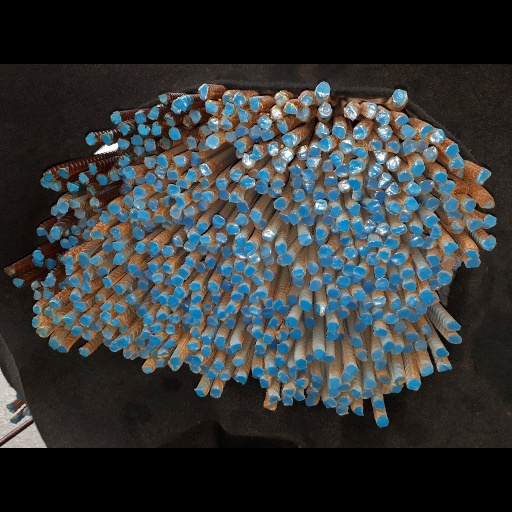dipstick: (349, 160, 364, 174), (189, 304, 202, 320), (411, 161, 424, 177), (316, 83, 330, 97), (403, 140, 417, 154), (423, 146, 437, 160), (446, 143, 459, 158), (281, 134, 297, 146), (257, 116, 271, 129), (319, 102, 332, 116), (314, 199, 327, 213), (353, 125, 366, 139), (378, 127, 391, 141), (386, 156, 400, 169), (402, 125, 416, 138), (432, 129, 445, 143), (421, 179, 434, 193), (444, 198, 458, 211), (468, 218, 482, 231), (483, 214, 496, 228), (482, 236, 495, 250), (437, 271, 451, 284), (343, 246, 357, 259), (273, 159, 285, 174), (239, 176, 254, 188), (318, 244, 333, 256), (345, 105, 357, 120), (276, 118, 287, 134), (424, 215, 440, 226), (199, 163, 212, 176), (147, 337, 160, 350), (221, 103, 234, 116), (255, 181, 268, 194), (386, 141, 399, 154), (478, 171, 491, 184), (406, 197, 419, 210), (424, 236, 437, 249), (407, 377, 420, 390), (205, 100, 217, 114), (205, 136, 219, 148), (168, 357, 180, 371), (300, 92, 312, 106), (317, 137, 329, 151), (317, 123, 329, 137), (301, 169, 315, 181), (283, 316, 297, 328), (407, 182, 421, 194), (373, 266, 387, 278), (267, 142, 278, 157), (443, 243, 458, 254), (174, 98, 186, 111), (144, 138, 156, 151), (184, 136, 196, 149), (213, 215, 225, 228), (233, 246, 245, 259), (251, 145, 263, 158), (297, 108, 309, 121), (332, 125, 344, 138), (250, 209, 262, 222), (377, 112, 389, 125), (393, 91, 406, 103), (421, 126, 433, 139), (434, 172, 447, 184), (426, 198, 439, 210), (368, 199, 380, 212), (441, 257, 454, 269), (419, 266, 431, 279), (110, 111, 121, 125), (145, 172, 156, 186), (233, 92, 244, 106), (242, 154, 253, 168), (249, 125, 260, 139), (248, 97, 259, 111), (298, 234, 312, 245), (369, 163, 380, 177), (444, 181, 455, 195), (464, 199, 475, 213), (337, 276, 351, 287), (277, 255, 292, 265), (394, 115, 409, 125), (379, 173, 389, 188), (199, 84, 208, 100), (299, 299, 311, 311), (321, 160, 333, 172), (339, 140, 351, 152), (367, 104, 376, 120), (448, 159, 464, 168), (399, 210, 411, 222), (376, 278, 388, 290), (376, 415, 388, 427), (117, 138, 130, 149), (208, 118, 219, 131), (159, 137, 170, 150), (157, 155, 168, 168), (155, 167, 166, 180), (167, 184, 180, 195), (133, 226, 144, 239), (43, 274, 54, 287), (69, 276, 80, 289), (245, 241, 256, 254), (235, 214, 248, 225), (216, 189, 229, 200), (219, 118, 232, 129), (235, 126, 248, 137), (276, 93, 287, 106), (282, 148, 293, 161), (353, 147, 366, 158), (335, 165, 348, 176), (451, 220, 464, 231), (389, 273, 402, 284), (372, 296, 385, 307), (390, 298, 401, 311), (226, 224, 240, 234), (237, 108, 247, 122), (261, 308, 275, 318), (368, 140, 382, 150), (466, 258, 480, 268), (371, 213, 385, 223), (364, 220, 374, 234), (390, 226, 407, 234), (191, 151, 200, 166), (480, 199, 495, 208), (159, 92, 170, 104), (148, 108, 159, 120), (189, 110, 200, 122), (169, 127, 180, 139), (124, 167, 136, 178), (174, 156, 186, 167), (57, 201, 68, 213), (134, 187, 145, 199), (185, 169, 196, 181), (122, 195, 133, 207), (110, 227, 121, 239), (162, 245, 174, 256), (189, 233, 200, 245), (221, 266, 233, 277), (224, 131, 236, 142), (221, 91, 233, 102), (270, 108, 282, 119), (274, 198, 286, 209), (288, 213, 299, 225), (293, 190, 305, 201), (304, 181, 315, 193), (307, 262, 318, 274), (309, 280, 321, 291), (240, 304, 252, 315), (330, 153, 341, 165), (349, 179, 361, 190), (338, 180, 349, 192), (349, 204, 360, 216), (385, 238, 397, 249), (378, 250, 389, 262), (392, 253, 404, 264), (394, 322, 406, 333), (407, 295, 419, 306), (354, 266, 366, 277), (342, 264, 354, 275), (372, 349, 383, 361), (356, 350, 368, 361), (86, 132, 96, 145), (151, 122, 161, 135), (153, 180, 163, 193), (170, 206, 180, 219), (108, 203, 121, 213), (51, 227, 61, 240), (233, 141, 246, 151), (284, 103, 297, 113), (272, 179, 285, 189), (315, 304, 328, 314), (376, 150, 386, 163), (426, 255, 439, 265), (376, 225, 389, 235), (436, 347, 449, 357), (407, 312, 420, 322), (384, 313, 397, 323), (338, 396, 351, 406), (324, 398, 337, 408), (346, 365, 359, 375), (318, 257, 332, 266), (309, 381, 323, 390), (410, 236, 424, 245), (447, 321, 461, 330), (402, 282, 416, 291), (135, 112, 146, 123), (100, 134, 111, 145), (138, 124, 149, 135), (96, 174, 107, 185), (216, 179, 227, 190), (184, 206, 195, 217), (138, 210, 149, 221), (196, 222, 207, 233), (135, 242, 146, 253), (33, 250, 44, 261), (79, 316, 90, 327), (172, 276, 183, 287), (252, 328, 263, 339), (290, 328, 301, 339), (207, 281, 218, 292), (237, 201, 248, 212), (248, 168, 259, 179), (278, 213, 289, 224), (298, 205, 309, 216), (313, 349, 324, 360), (328, 321, 339, 332), (387, 183, 398, 194), (389, 203, 400, 214), (131, 135, 143, 145), (109, 168, 119, 180), (67, 182, 79, 192), (200, 178, 210, 190), (202, 191, 214, 201), (112, 242, 124, 252), (73, 301, 85, 311), (36, 327, 48, 337), (100, 310, 110, 322), (168, 314, 180, 324), (252, 366, 264, 376), (218, 308, 228, 320), (208, 244, 220, 254), (261, 130, 273, 140), (289, 165, 301, 175), (259, 169, 269, 181), (230, 169, 240, 181), (262, 230, 274, 240), (327, 190, 339, 200), (301, 216, 313, 226), (353, 220, 363, 232), (431, 226, 441, 238), (420, 365, 432, 375), (397, 308, 409, 318), (332, 257, 342, 269), (327, 287, 339, 297), (373, 308, 383, 320), (373, 400, 385, 410), (330, 377, 340, 389), (91, 230, 104, 239), (307, 158, 320, 167), (324, 177, 337, 186), (406, 332, 419, 341), (399, 172, 413, 180), (437, 363, 451, 371), (133, 145, 144, 155), (119, 155, 130, 165), (144, 157, 155, 167), (79, 173, 89, 184), (50, 181, 61, 191), (160, 196, 171, 206), (133, 200, 144, 210), (113, 253, 123, 264), (102, 277, 112, 288), (168, 295, 178, 306), (172, 236, 182, 247), (179, 301, 189, 312), (187, 341, 198, 351), (278, 372, 289, 382), (220, 281, 231, 291), (195, 263, 206, 273), (216, 233, 226, 244), (221, 248, 232, 258), (263, 270, 273, 281), (229, 193, 240, 203), (309, 147, 320, 157), (292, 177, 302, 188), (316, 227, 326, 238), (367, 178, 377, 189), (339, 220, 349, 231), (358, 246, 369, 256), (429, 279, 440, 289), (415, 340, 426, 350), (416, 304, 427, 314), (355, 289, 365, 300), (363, 282, 374, 292), (361, 314, 372, 324), (352, 338, 363, 348), (350, 389, 361, 399), (199, 126, 211, 135), (176, 196, 185, 208), (81, 281, 90, 293), (181, 314, 193, 323), (206, 317, 218, 326), (231, 275, 243, 284), (206, 257, 215, 269), (247, 254, 259, 263), (268, 188, 280, 197), (255, 220, 267, 229), (277, 243, 286, 255), (249, 305, 261, 314), (225, 317, 234, 329), (295, 358, 307, 367), (325, 332, 337, 341), (449, 334, 461, 343), (361, 390, 373, 399), (364, 380, 376, 389), (446, 211, 461, 218), (183, 115, 191, 128), (176, 180, 189, 188), (129, 208, 137, 221), (299, 146, 307, 159), (239, 316, 252, 324), (465, 250, 478, 258), (373, 328, 386, 336), (341, 374, 354, 382), (148, 200, 158, 210), (197, 201, 207, 211), (32, 305, 42, 315), (62, 316, 72, 326), (48, 339, 58, 349), (114, 284, 124, 294), (152, 274, 162, 284), (136, 307, 146, 317), (174, 288, 184, 298), (195, 387, 205, 397), (275, 356, 285, 366), (278, 343, 288, 353), (277, 331, 287, 341), (234, 261, 244, 271), (252, 275, 262, 285), (260, 247, 270, 257), (331, 206, 341, 216), (268, 318, 278, 328), (304, 317, 314, 327), (296, 378, 306, 388), (294, 390, 304, 400), (411, 225, 421, 235), (420, 290, 430, 300), (354, 322, 364, 332), (119, 124, 128, 135), (88, 163, 97, 174), (69, 199, 80, 208), (87, 185, 96, 196), (167, 170, 178, 179), (100, 211, 109, 222), (60, 239, 71, 248), (12, 278, 23, 287), (43, 290, 54, 299), (48, 300, 59, 309), (31, 317, 40, 328), (78, 347, 89, 356), (95, 294, 106, 303), (114, 304, 125, 313), (137, 281, 148, 290), (158, 350, 169, 359), (161, 265, 172, 274), (185, 256, 194, 267), (213, 360, 224, 369), (201, 346, 210, 357), (281, 396, 292, 405), (254, 344, 265, 353), (191, 295, 202, 304), (190, 282, 201, 291), (244, 266, 255, 275), (236, 236, 245, 247), (293, 268, 304, 277), (287, 294, 296, 305), (376, 191, 385, 202), (361, 302, 372, 311), (341, 295, 350, 306), (328, 301, 339, 310), (391, 384, 402, 393), (368, 240, 382, 247), (153, 214, 165, 222), (73, 210, 85, 218), (142, 222, 154, 230), (161, 222, 173, 230), (183, 217, 195, 225), (69, 293, 81, 301), (156, 312, 168, 320), (238, 284, 250, 292), (367, 255, 379, 263), (402, 269, 414, 277), (340, 237, 352, 245), (382, 342, 394, 350), (378, 375, 390, 383), (336, 406, 348, 414), (198, 138, 205, 151), (230, 293, 243, 300), (307, 390, 320, 397), (165, 115, 174, 125), (59, 168, 68, 178), (71, 225, 80, 235), (102, 243, 112, 252), (46, 258, 55, 268), (33, 290, 42, 300), (82, 271, 91, 281), (44, 308, 53, 318), (117, 338, 127, 347), (125, 295, 135, 304), (158, 295, 167, 305), (143, 315, 152, 325), (164, 339, 174, 348), (166, 325, 175, 335), (198, 245, 207, 255), (179, 268, 188, 278), (191, 328, 201, 337), (191, 356, 201, 365), (210, 388, 220, 397), (215, 337, 225, 346), (259, 378, 269, 387), (268, 367, 277, 377), (211, 294, 221, 303), (202, 304, 212, 313), (226, 303, 235, 313), (293, 278, 303, 287), (352, 191, 362, 200), (430, 293, 439, 303), (421, 324, 431, 333), (353, 406, 363, 415), (193, 191, 201, 202), (118, 211, 126, 222), (37, 228, 48, 236), (79, 253, 87, 264), (97, 267, 108, 275), (134, 339, 145, 347), (200, 236, 211, 244), (190, 365, 201, 373), (200, 336, 211, 344), (263, 257, 274, 265), (264, 297, 272, 308), (417, 139, 428, 147), (338, 310, 349, 318), (328, 389, 339, 397), (89, 256, 101, 263), (66, 254, 73, 266), (323, 216, 335, 223), (289, 366, 296, 378), (311, 375, 323, 382), (394, 377, 406, 384), (91, 197, 100, 206), (72, 327, 81, 336), (82, 331, 91, 340), (103, 329, 112, 338), (149, 263, 158, 272), (150, 288, 159, 297), (207, 370, 216, 379), (257, 290, 266, 299), (381, 385, 390, 394), (341, 383, 350, 392), (170, 106, 180, 114), (44, 173, 54, 181), (40, 178, 48, 188), (91, 323, 101, 331), (110, 318, 120, 326), (121, 350, 131, 358), (142, 365, 152, 373), (151, 325, 161, 333), (219, 372, 229, 380), (233, 357, 243, 365), (263, 334, 271, 344), (250, 294, 258, 304), (273, 300, 283, 308), (305, 398, 315, 406), (324, 356, 334, 364), (348, 302, 358, 310), (394, 344, 402, 354), (403, 344, 413, 352), (4, 268, 15, 275), (100, 303, 111, 310), (283, 388, 294, 395), (355, 232, 366, 239), (374, 362, 385, 369), (69, 237, 78, 245), (78, 219, 86, 228), (86, 219, 95, 227), (65, 266, 73, 275), (58, 282, 67, 290), (110, 343, 119, 351), (119, 325, 127, 334), (128, 264, 137, 272), (140, 350, 149, 358), (155, 359, 164, 367), (148, 249, 157, 257), (121, 185, 131, 192), (135, 178, 145, 185), (30, 282, 40, 289), (58, 345, 68, 352), (148, 241, 158, 248), (185, 243, 195, 250), (234, 149, 241, 159), (231, 344, 242, 350), (338, 332, 344, 343), (296, 369, 309, 374), (150, 350, 158, 358), (305, 354, 313, 362), (51, 206, 58, 215), (83, 231, 90, 240), (53, 315, 60, 324), (237, 376, 246, 383), (329, 225, 338, 232), (279, 307, 288, 314), (185, 353, 191, 363), (314, 192, 324, 198), (314, 239, 326, 244), (141, 330, 148, 338), (124, 179, 133, 185), (145, 270, 151, 279), (226, 348, 235, 354), (270, 340, 276, 349), (33, 262, 43, 267), (104, 339, 111, 346), (165, 278, 172, 285), (182, 324, 189, 331), (135, 270, 143, 276), (201, 365, 207, 373), (270, 395, 279, 400), (213, 306, 217, 317), (131, 354, 138, 360), (80, 265, 90, 269), (151, 298, 158, 303), (247, 325, 252, 332)
